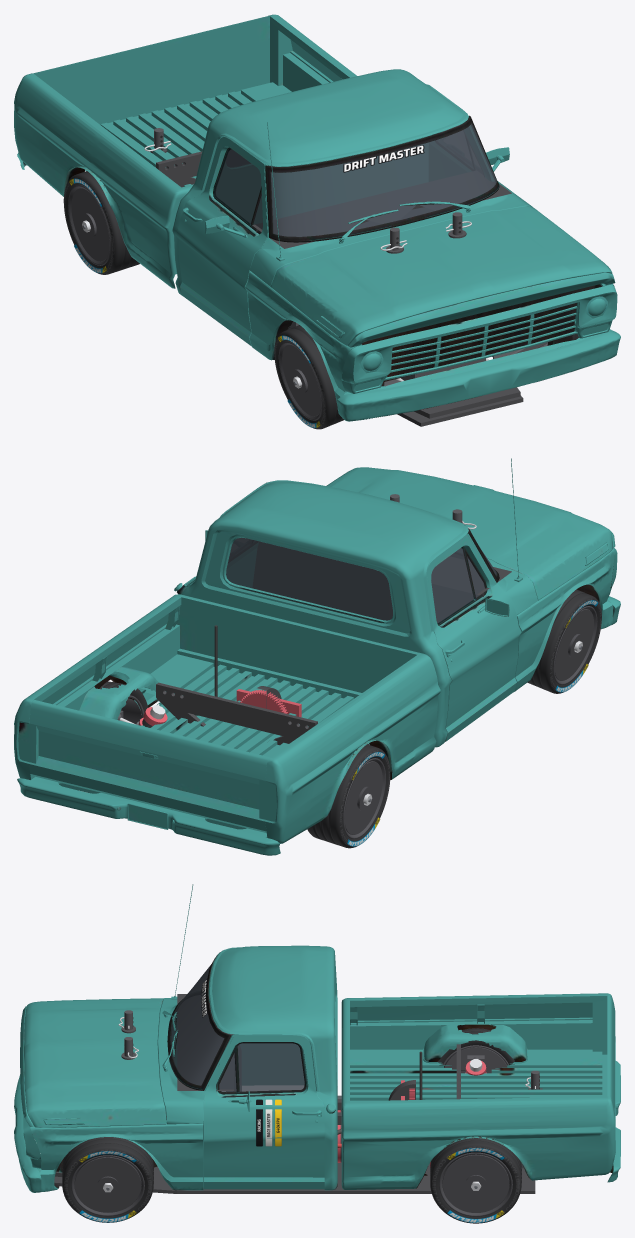
File: pickup.glb
The picture shows the model from 3 angles, top to bottom: view 1: azimuth 30°, elevation 25°; view 2: azimuth 150°, elevation 25°; view 3: azimuth 270°, elevation 25°; orthographic projection. The views are drawn at different scales.
Parts seen in each view (by area): view 1: Shell_paint, Shell_glass_10141a, Shell, Chassis, WheelRb_Spin_m_18181b, WheelFb_Spin_m_2e2f33_t58, WheelFb_Spin_m_18181b, WheelRb_Spin_m_2e2f33_t58, Shell_m_ffffff_t74, Shell_m_ffffff_t72, Mounts_m_1d1d20, Chassis_m_1d1d20; view 2: Shell_paint, Shell_glass_10141a, Shell, Chassis, WheelRb_Spin_m_2e2f33_t58, WheelFb_Spin_m_2e2f33_t58, WheelRb_Spin_m_18181b, WheelFb_Spin_m_18181b, Chassis_m_c8202a; view 3: Shell_paint, Shell_glass_10141a, WheelRa_Spin_m_18181b, Chassis, WheelFa_Spin_m_18181b, Shell, WheelFa_Spin_m_2e2f33_t58, WheelRa_Spin_m_2e2f33_t58, WheelRb_Spin_m_18181b, WheelRb_Spin_m_2e2f33_t58, WheelRa_Spin_m_ffffff_t59, WheelFa_Spin_m_ffffff_t59 (+1 smaller).
Part boxes in pixels (bbox=[...]): Shell_paint: bbox=[14, 14, 620, 421]; Shell_glass_10141a: bbox=[215, 123, 496, 236]; Shell: bbox=[252, 171, 511, 248]; Chassis: bbox=[156, 151, 523, 426]; WheelRb_Spin_m_18181b: bbox=[68, 184, 110, 265]; WheelFb_Spin_m_2e2f33_t58: bbox=[274, 325, 354, 429]; WheelFb_Spin_m_18181b: bbox=[278, 341, 322, 420]; WheelRb_Spin_m_2e2f33_t58: bbox=[63, 171, 139, 274]; Shell_m_ffffff_t74: bbox=[343, 145, 424, 172]; Shell_m_ffffff_t72: bbox=[205, 147, 509, 233]; Mounts_m_1d1d20: bbox=[154, 128, 462, 250]; Chassis_m_1d1d20: bbox=[384, 342, 547, 386]; Shell_paint: bbox=[14, 458, 620, 855]; Shell_glass_10141a: bbox=[226, 533, 496, 622]; Shell: bbox=[253, 542, 511, 622]; Chassis: bbox=[142, 625, 369, 745]; WheelRb_Spin_m_2e2f33_t58: bbox=[307, 744, 390, 848]; WheelFb_Spin_m_2e2f33_t58: bbox=[527, 589, 601, 693]; WheelRb_Spin_m_18181b: bbox=[343, 758, 385, 839]; WheelFb_Spin_m_18181b: bbox=[553, 606, 597, 684]; Chassis_m_c8202a: bbox=[138, 689, 301, 725]; Shell_paint: bbox=[14, 884, 620, 1192]; Shell_glass_10141a: bbox=[170, 964, 304, 1091]; WheelRa_Spin_m_18181b: bbox=[439, 1152, 512, 1216]; Chassis: bbox=[54, 1044, 535, 1193]; WheelFa_Spin_m_18181b: bbox=[71, 1155, 144, 1216]; Shell: bbox=[177, 994, 240, 1092]; WheelFa_Spin_m_2e2f33_t58: bbox=[62, 1137, 153, 1222]; WheelRa_Spin_m_2e2f33_t58: bbox=[430, 1138, 521, 1223]; WheelRb_Spin_m_18181b: bbox=[443, 1045, 508, 1073]; WheelRb_Spin_m_2e2f33_t58: bbox=[437, 1028, 514, 1065]; WheelRa_Spin_m_ffffff_t59: bbox=[447, 1148, 504, 1222]; WheelFa_Spin_m_ffffff_t59: bbox=[79, 1151, 136, 1222].
Size of the model in its own units: 0.2134 by 0.1786 by 0.4239.
39 materials, 11 textured.
